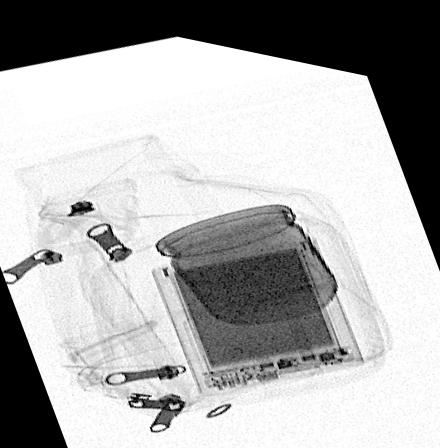Powerbank: (152, 223, 367, 389)
